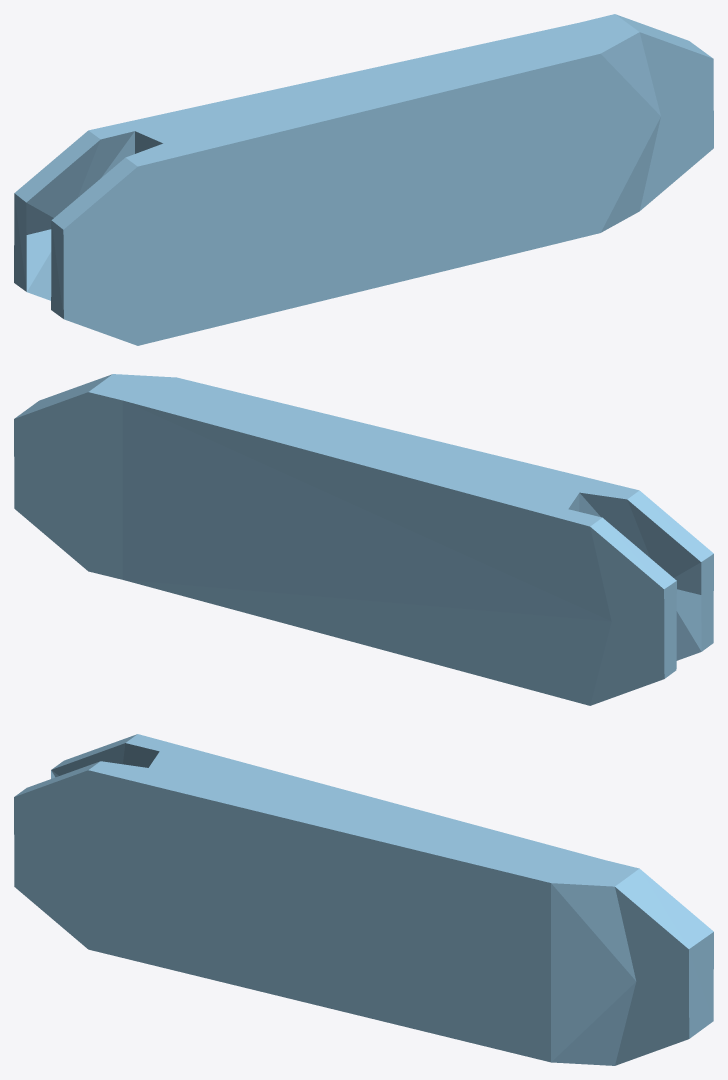
The picture shows the model from 3 angles, top to bottom: view 1: azimuth 30°, elevation 25°; view 2: azimuth 150°, elevation 25°; view 3: azimuth 330°, elevation 25°; orthographic projection.
Parts seen in each view (by area): view 1: 5eb194335393c815e5cdd949; view 2: 5eb194335393c815e5cdd949; view 3: 5eb194335393c815e5cdd949.
Boxes of the visible parts, box(x1,y1,x2,y2) form: 5eb194335393c815e5cdd949: box(14, 14, 713, 345); 5eb194335393c815e5cdd949: box(14, 374, 713, 705); 5eb194335393c815e5cdd949: box(14, 734, 713, 1065).
Bounding box in the file's own units: 0.000774 × 0.0001 × 0.0002.
